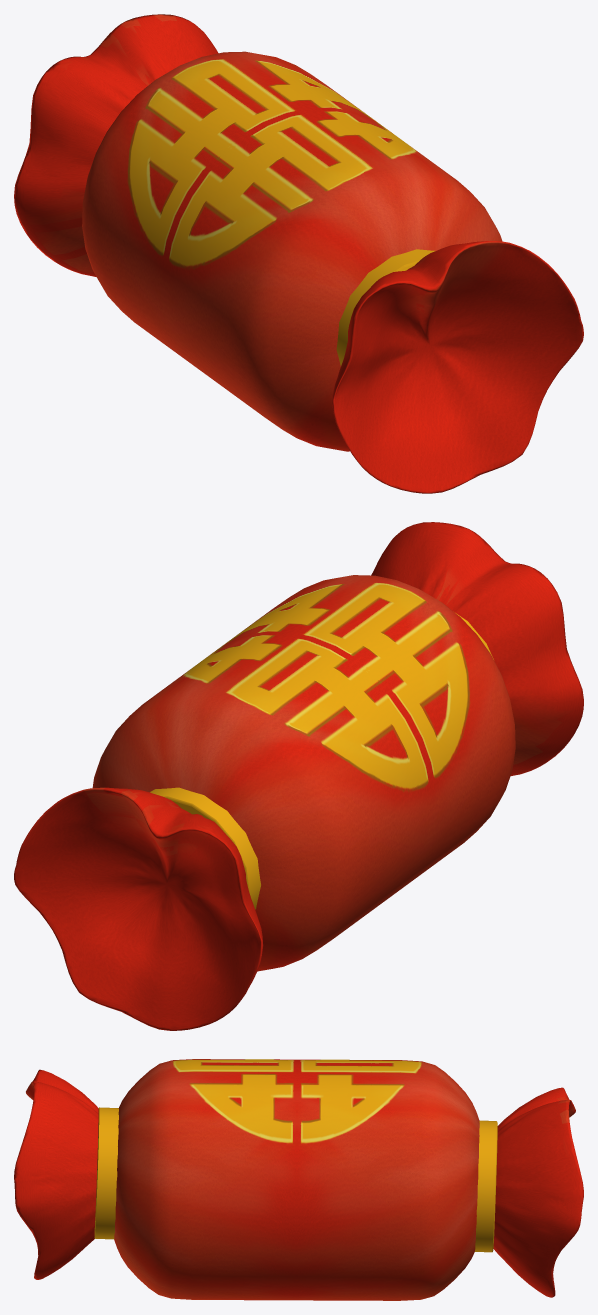
3 views of the same model, one above another, from view 1: azimuth 30°, elevation 25°; view 2: azimuth 150°, elevation 25°; view 3: azimuth 270°, elevation 25° (orthographic). The views are drawn at different scales.
Parts seen in each view (by area): view 1: model8237; view 2: model8237; view 3: model8237.
Part boxes in pixels (bbox=[...]): model8237: bbox=[14, 14, 583, 493]; model8237: bbox=[14, 522, 583, 1030]; model8237: bbox=[14, 1059, 583, 1300].
Bounding box in the file's own units: 20.72 × 20.75 × 48.99.
